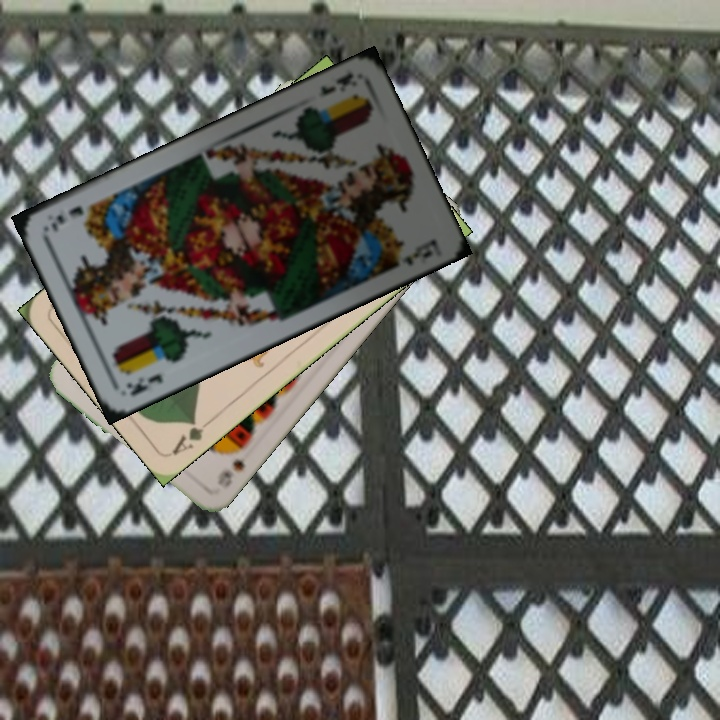EK: (122, 369, 166, 399), (314, 68, 356, 99)
GA: (168, 415, 217, 458)
S9: (213, 439, 249, 491)
